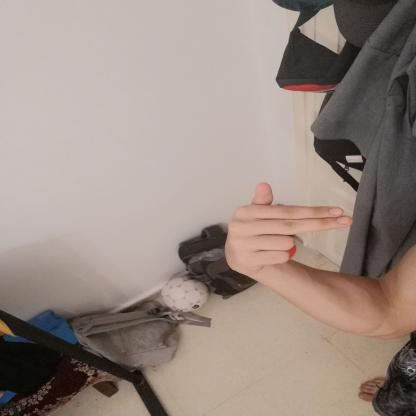GHAYN: (216, 177, 361, 281)
